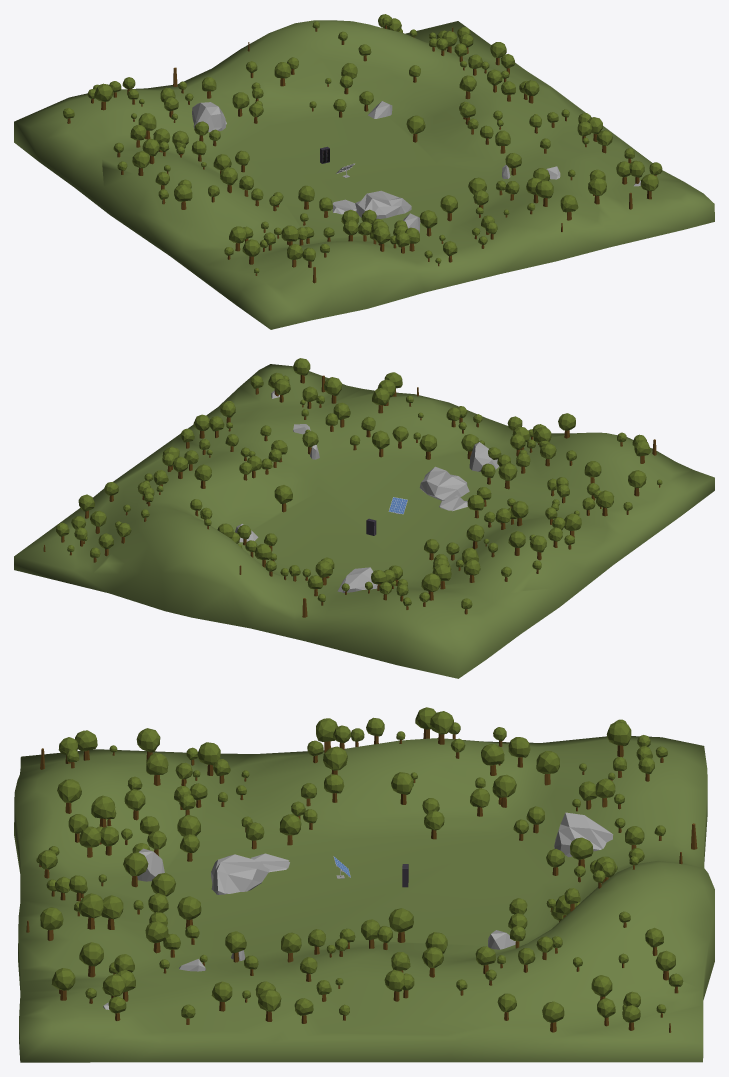
The model's file is main-scene-tests.glb.
3 views of the same model, one above another, from view 1: azimuth 30°, elevation 25°; view 2: azimuth 150°, elevation 25°; view 3: azimuth 270°, elevation 25° (orthographic). The views are drawn at different scales.
Visible parts, largest first — view 1: Floor, Trees, Rocks; view 2: Floor, Trees, Rocks; view 3: Floor, Trees, Rocks.
Boxes of the visible parts, left/top/right/bottom form: Floor: left=14, top=20, right=714, bottom=329; Trees: left=63, top=14, right=662, bottom=283; Rocks: left=192, top=101, right=640, bottom=232; Floor: left=14, top=364, right=714, bottom=678; Trees: left=43, top=358, right=662, bottom=617; Rocks: left=235, top=390, right=498, bottom=592; Floor: left=14, top=736, right=714, bottom=1062; Trees: left=26, top=707, right=697, bottom=1032; Rocks: left=103, top=812, right=613, bottom=1009.
Size of the model in its own units: 65.14 by 10.12 by 66.38.
10 materials, 4 textured.
